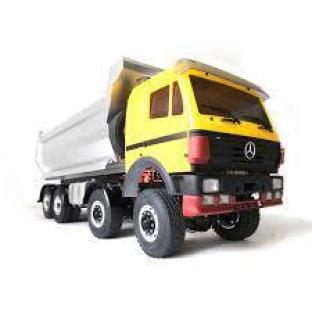Vehicle: (14, 82, 302, 259)
